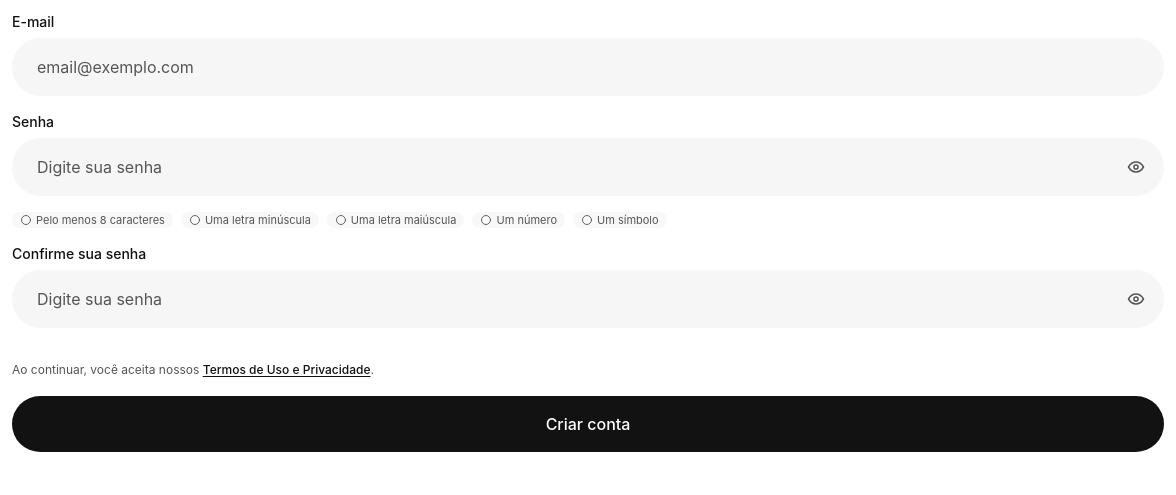
Test case: SignUpForm › shows the validation error returned by the action
Type "invalid" into the field labelled "E-mail" at {"x": 588, "y": 67}, box [12,38,1164,96]
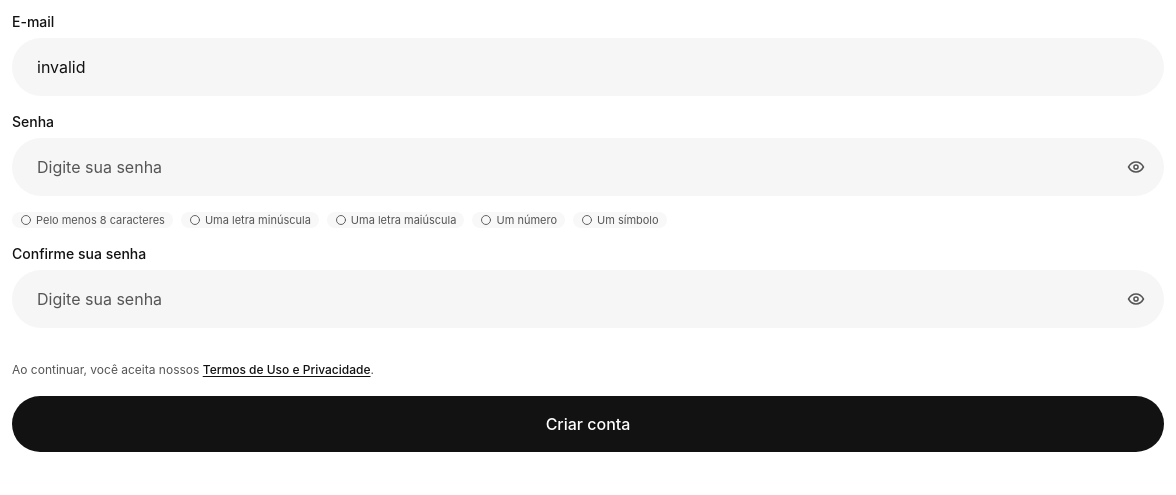
Type "short" into the password field labelled "Senha" at {"x": 588, "y": 167}, box [12,138,1164,196]
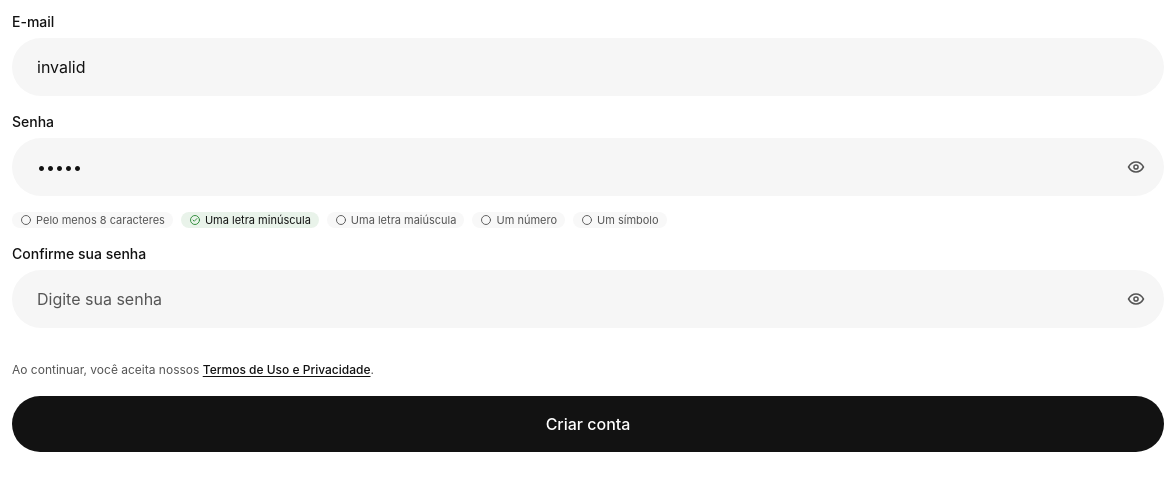
Type "other" into the password field labelled "Confirme sua senha" at {"x": 588, "y": 299}, box [12,270,1164,328]
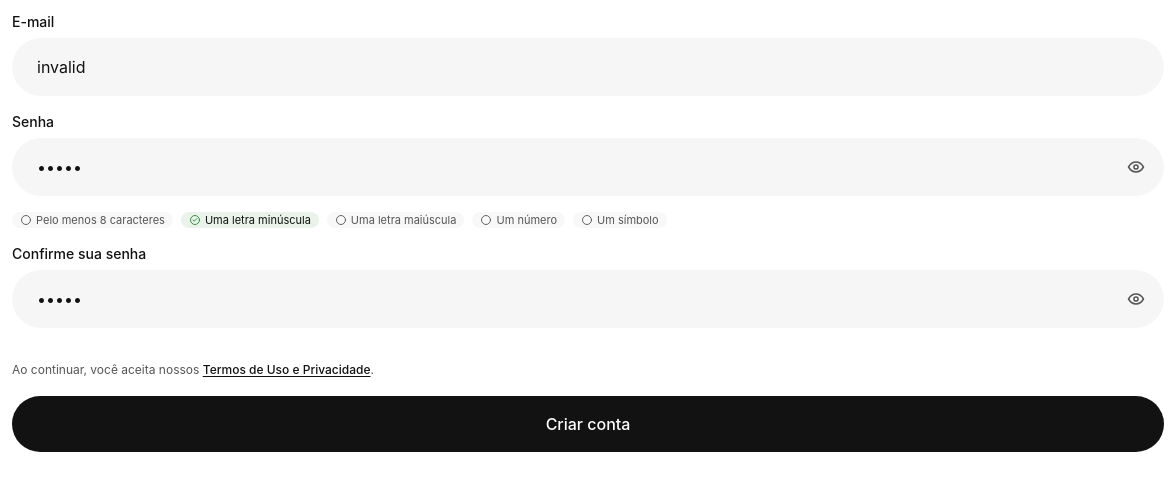
Click the button "Criar conta" at {"x": 588, "y": 424}, box [12,396,1164,452]
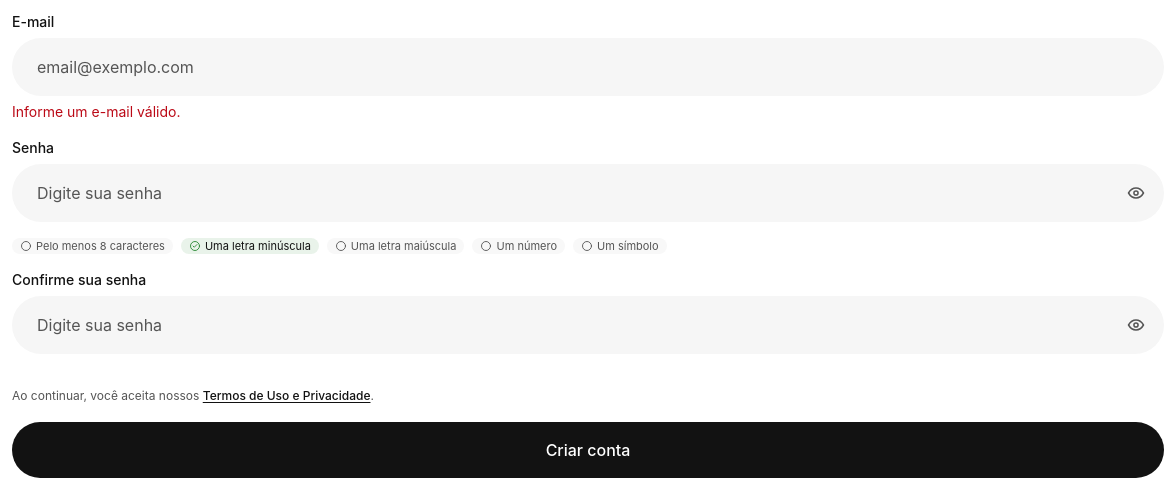
expect the text "Informe um e-mail válido." is shown: met, box [12,103,180,120]
